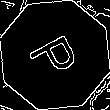P_NE: (24, 27, 86, 83)
